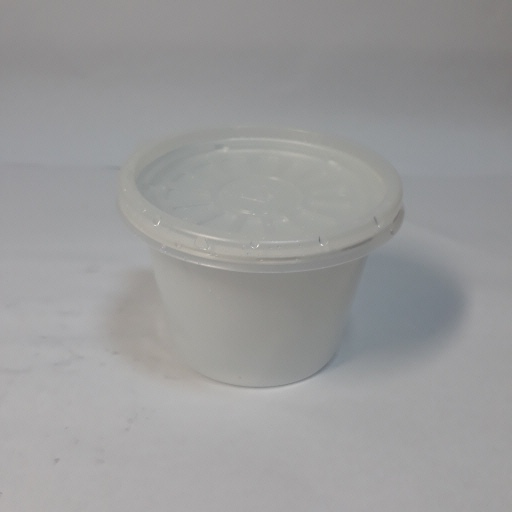Plastic_5: (114, 123, 408, 390)
